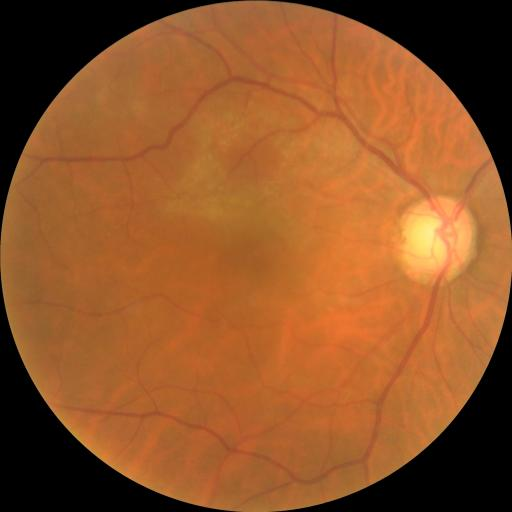Optic Cup: (404, 213, 455, 266)
Optic Disc: (396, 196, 474, 285)
